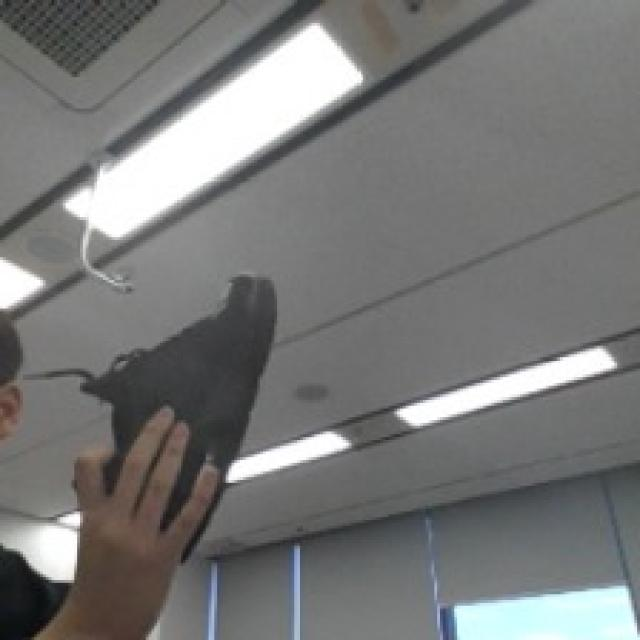shoe: (103, 267, 281, 548)
